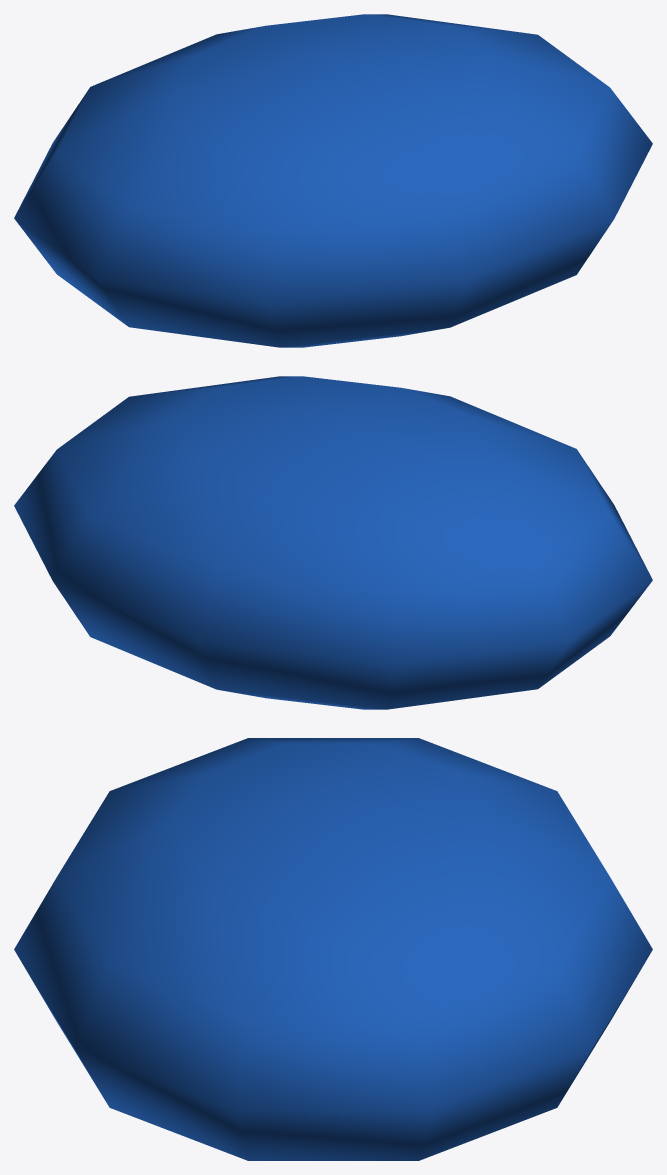
Rendered from bean_bag.glb.
3 views of the same model, one above another, from view 1: azimuth 30°, elevation 25°; view 2: azimuth 150°, elevation 25°; view 3: azimuth 270°, elevation 25° (orthographic). The views are drawn at different scales.
Parts seen in each view (by area): view 1: bean_bag__prop_blue; view 2: bean_bag__prop_blue; view 3: bean_bag__prop_blue.
Part boxes in pixels (x1,y1,x2,y2): bean_bag__prop_blue: (14,14,652,347); bean_bag__prop_blue: (14,376,652,709); bean_bag__prop_blue: (14,738,652,1160).
Size of the model in its own units: 0.1141 by 0.048 by 0.096.
